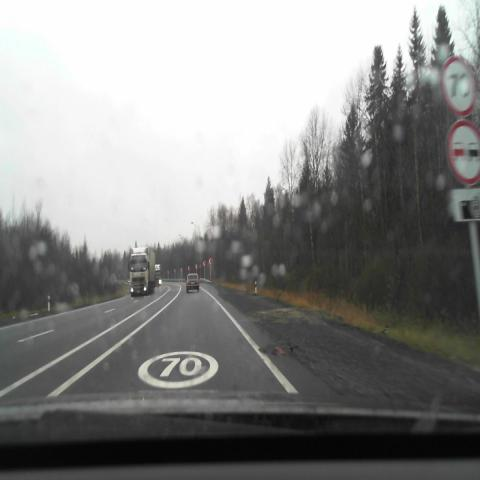8_23: (451, 188, 480, 220)
